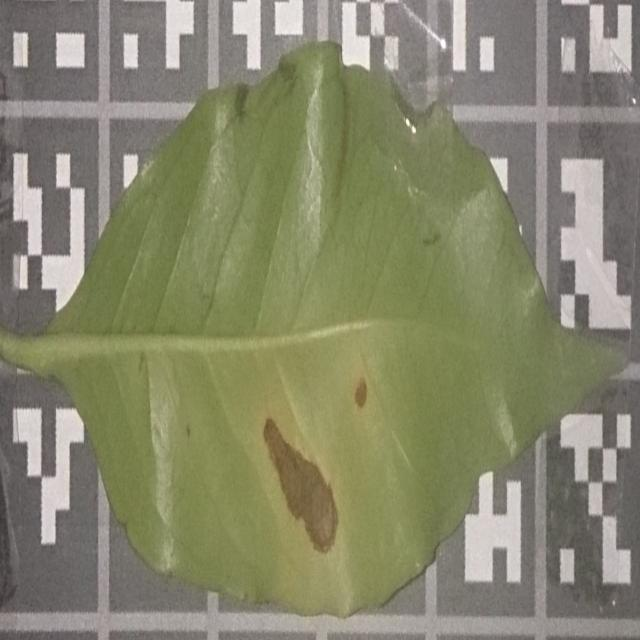Enfermedad-Mancha-de-hierro: (0, 42, 626, 619)
